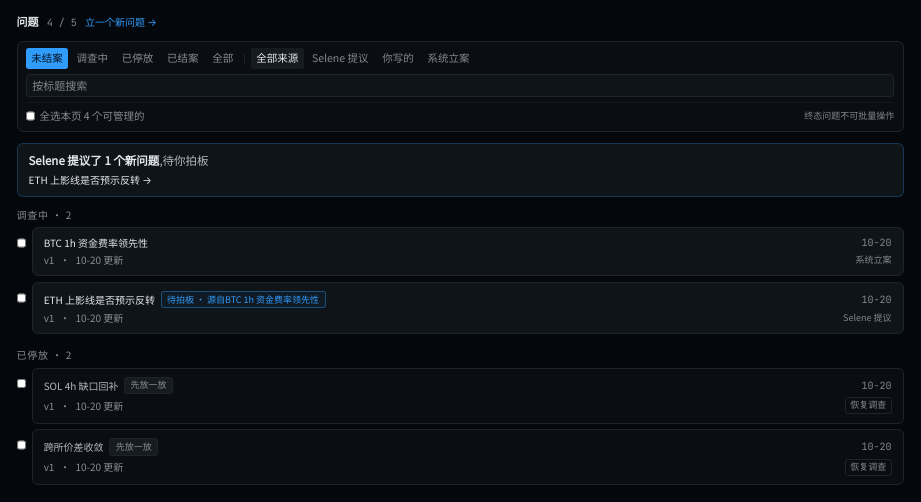
it: QuestionListView 管理面 › 搜索无结果时给出可清除的诚实空态
expect the list with test id "open-questions" is shown: met, box 16,227 -> 904,334
In the search field with test id "question-search": [460, 86] box 26,74 -> 894,97, type "zzz不存在"
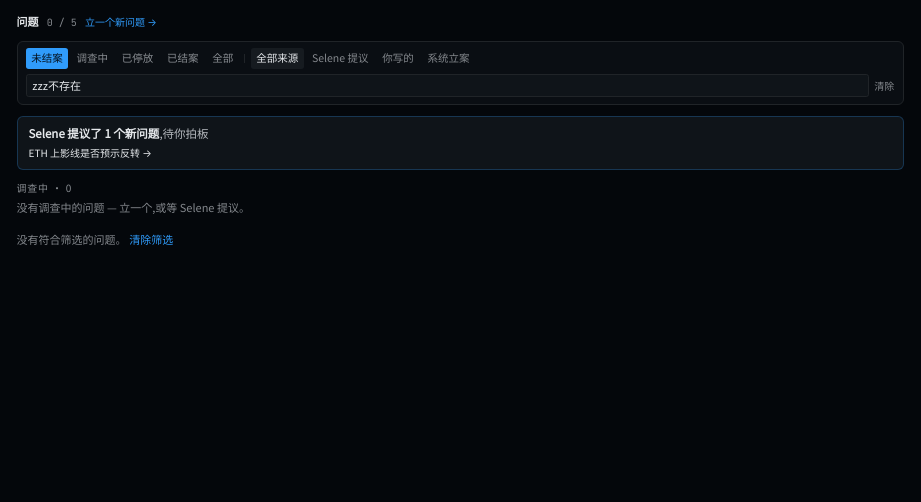
expect the element with test id "no-match" is shown: met, box 16,231 -> 173,248
expect the list with test id "open-questions" is gone: met
